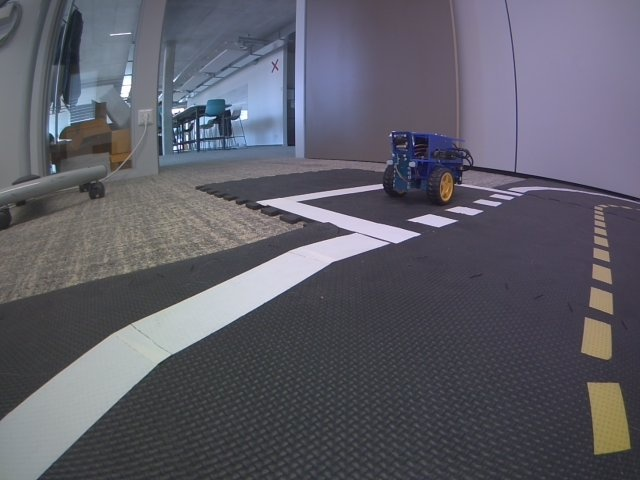Bot: (382, 130, 474, 205)
occupiedSlot: (257, 179, 522, 242)
